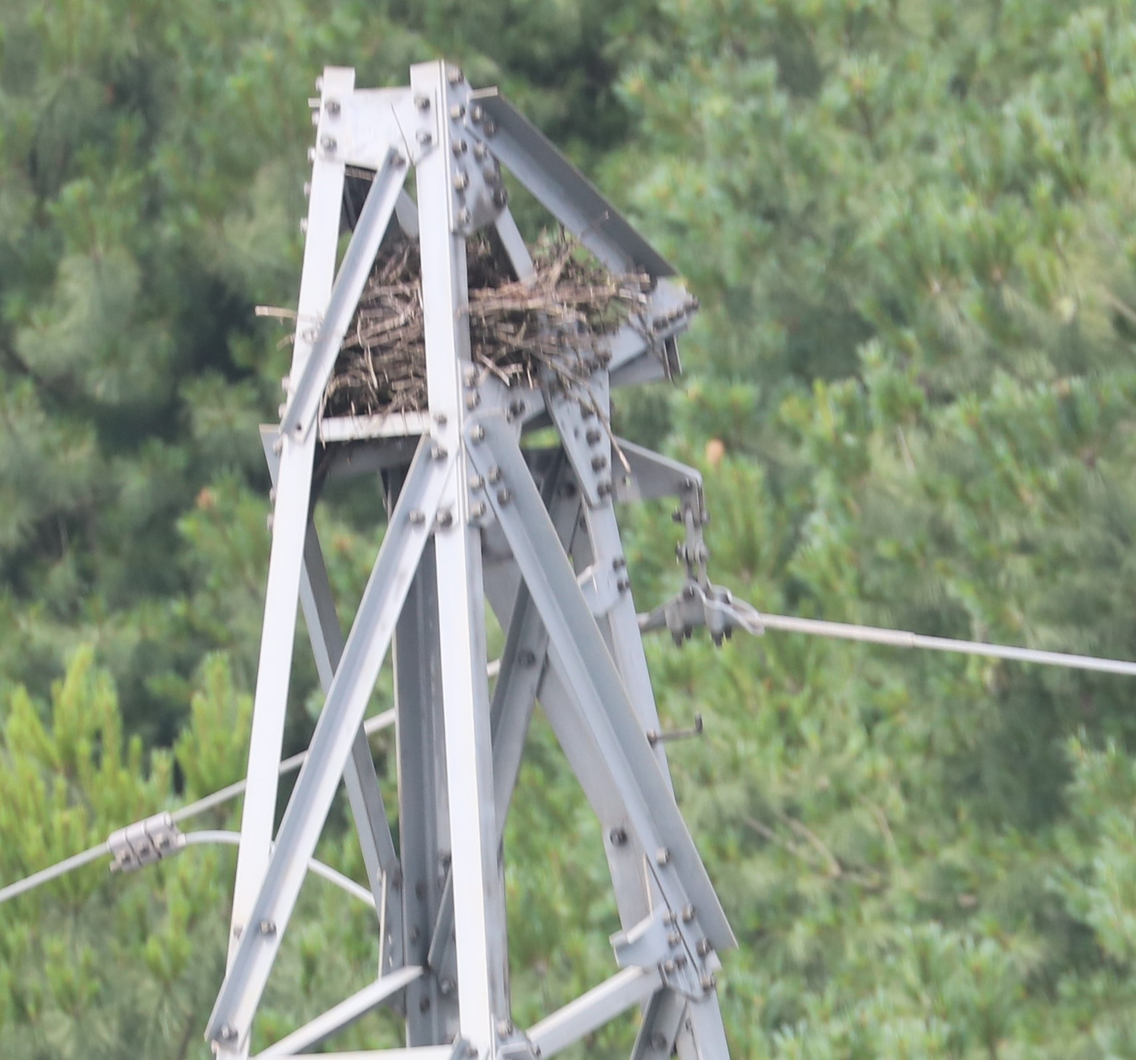nest: (315, 251, 625, 403)
